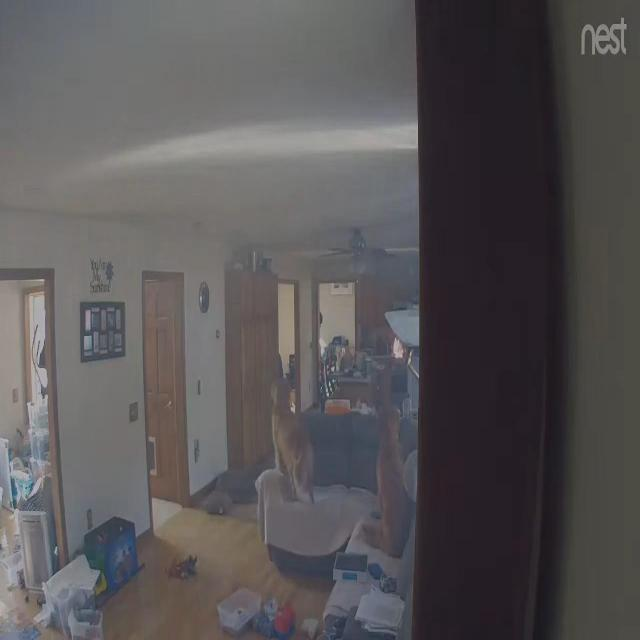fire: (393, 336, 403, 359)
